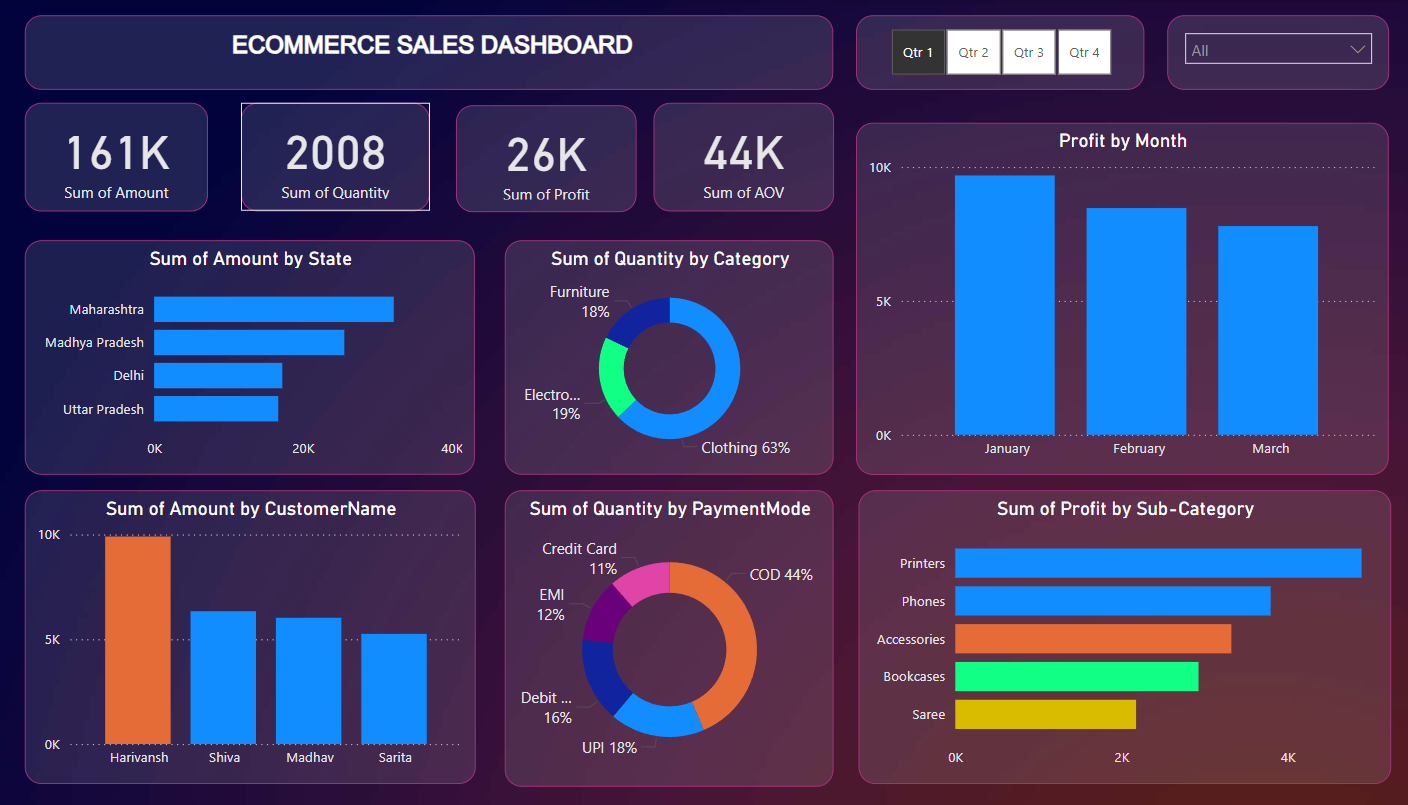

What the dashboard file says about the page in this screenshot:
{"tool":"powerbi","page":{"name":"Page 1","canvas":[1280,720],"ordinal":0},"visuals":[{"type":"textbox","box":[43.4,14.5,720.2,66.4],"z":0},{"type":"columnChart","title":"Profit by Month","fields":{"Y":["Details.Profit"],"Category":["Orders.Order Date.Variation.Date Hierarchy.Month"]},"box":[784.2,109.8,474.1,313.7],"z":1000},{"type":"barChart","fields":{"Category":["Details.Sub-Category"],"Y":["Details.Profit"]},"box":[785.4,437.9,474.1,261.8],"z":2000},{"type":"donutChart","fields":{"Y":["Details.Quantity"],"Category":["Details.PaymentMode"]},"box":[470.5,437.9,293.2,264.2],"z":3000},{"type":"donutChart","fields":{"Category":["Details.Category"],"Y":["Details.Quantity"]},"box":[470.5,214.7,293.2,208.7],"z":4000},{"type":"card","fields":{"Values":["Details.Amount"]},"box":[43.4,92.9,162.9,96.5],"z":5000},{"type":"card","fields":{"Values":["Details.Quantity"]},"box":[236.5,92.9,167.7,96.5],"z":6000},{"type":"card","fields":{"Values":["Details.Profit"]},"box":[427.1,94.1,160.5,95.3],"z":7000},{"type":"card","fields":{"Values":["Details.AOV"]},"box":[603.2,92.9,160.5,96.5],"z":8000},{"type":"barChart","fields":{"Category":["Orders.State"],"Y":["Details.Amount"]},"box":[43.5,214.5,401.1,208.9],"z":9000},{"type":"columnChart","fields":{"Category":["Orders.CustomerName"],"Y":["Details.Amount"]},"box":[43.4,437.9,401.7,261.8],"z":10000},{"type":"slicer","fields":{"Values":["Orders.Order Date.Variation.Date Hierarchy.Quarter"]},"box":[784.2,14.5,257,66.4],"z":11000},{"type":"slicer","fields":{"Values":["Orders.State"]},"box":[1060.5,14.5,197.9,66.4],"z":12000}]}

Visuals, with their boxes in screenshot pixels (x1, y1, x2, y2), scaled from the page's 1280x720 canvas onto the 1408x805 screenshot:
textbox: (left=48, top=16, right=840, bottom=90)
"Profit by Month" columnChart: (left=863, top=123, right=1384, bottom=473)
barChart - Details.Sub-Category x Details.Profit: (left=864, top=490, right=1385, bottom=782)
donutChart - Details.Quantity x Details.PaymentMode: (left=518, top=490, right=840, bottom=785)
donutChart - Details.Category x Details.Quantity: (left=518, top=240, right=840, bottom=473)
card - Details.Amount: (left=48, top=104, right=227, bottom=212)
card - Details.Quantity: (left=260, top=104, right=445, bottom=212)
card - Details.Profit: (left=470, top=105, right=646, bottom=212)
card - Details.AOV: (left=664, top=104, right=840, bottom=212)
barChart - Orders.State x Details.Amount: (left=48, top=240, right=489, bottom=473)
columnChart - Orders.CustomerName x Details.Amount: (left=48, top=490, right=490, bottom=782)
slicer - Orders.Order Date.Variation.Date Hierarchy.Quarter: (left=863, top=16, right=1145, bottom=90)
slicer - Orders.State: (left=1167, top=16, right=1384, bottom=90)
